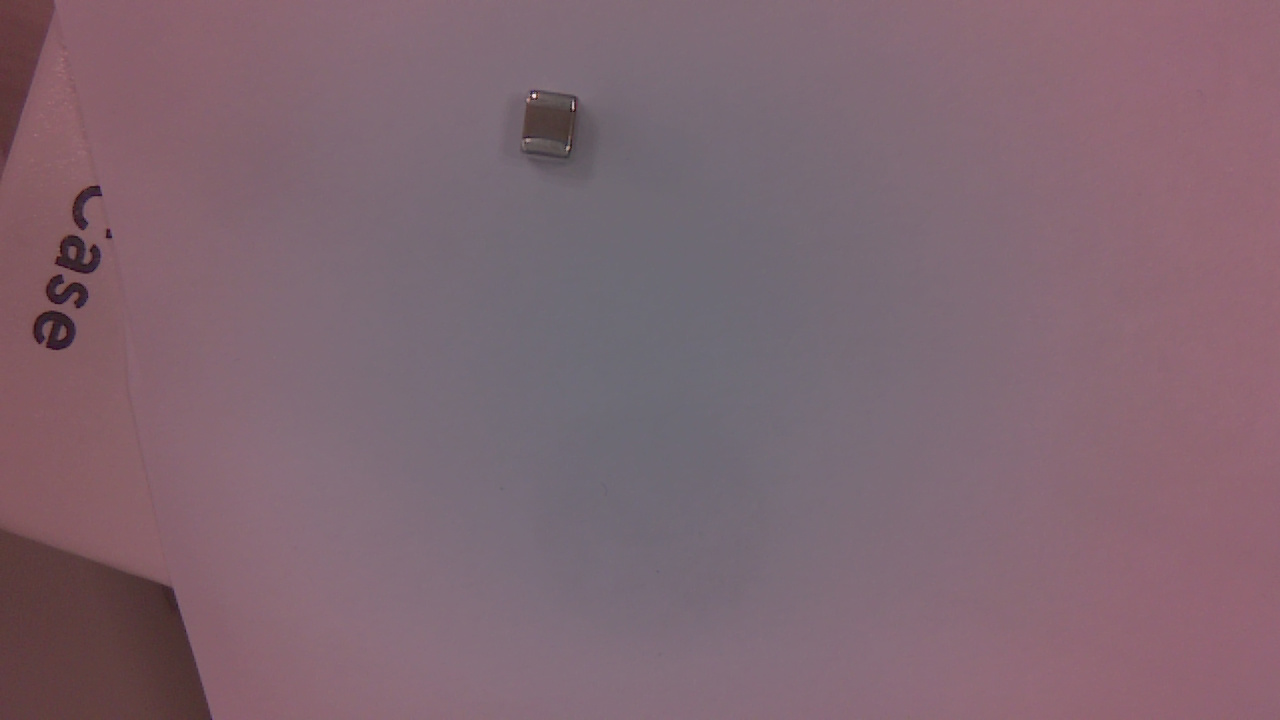Condensator: (526, 94, 585, 164)
